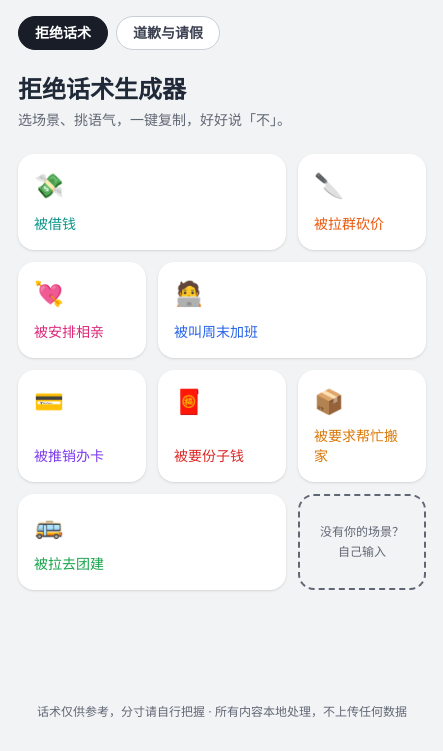
Scenario: App › 选场景：上报 scene_selected 且语气胶囊出现
What coordinates should you click on to do the following:
click the button "💸 被借钱"
I would click on:
 (55, 224)
Its box is 18,154 -> 286,250.
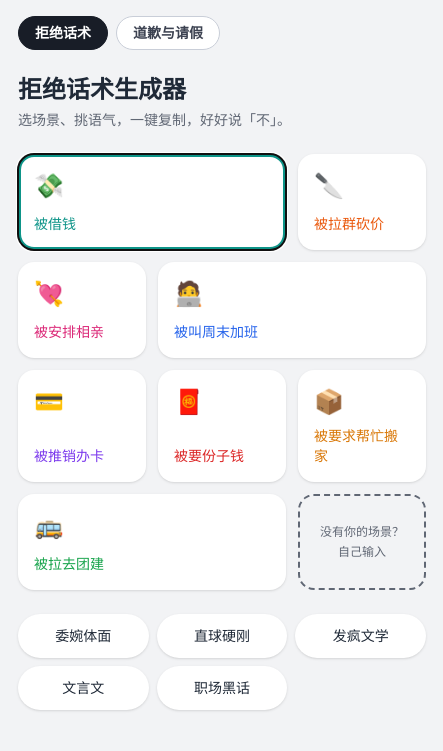
Now the button "委婉体面" is shown, box 18,614 -> 149,658
